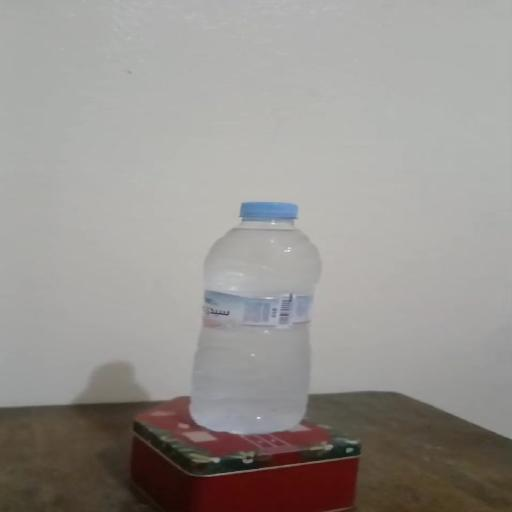bouteille conformite: (162, 184, 356, 440)
